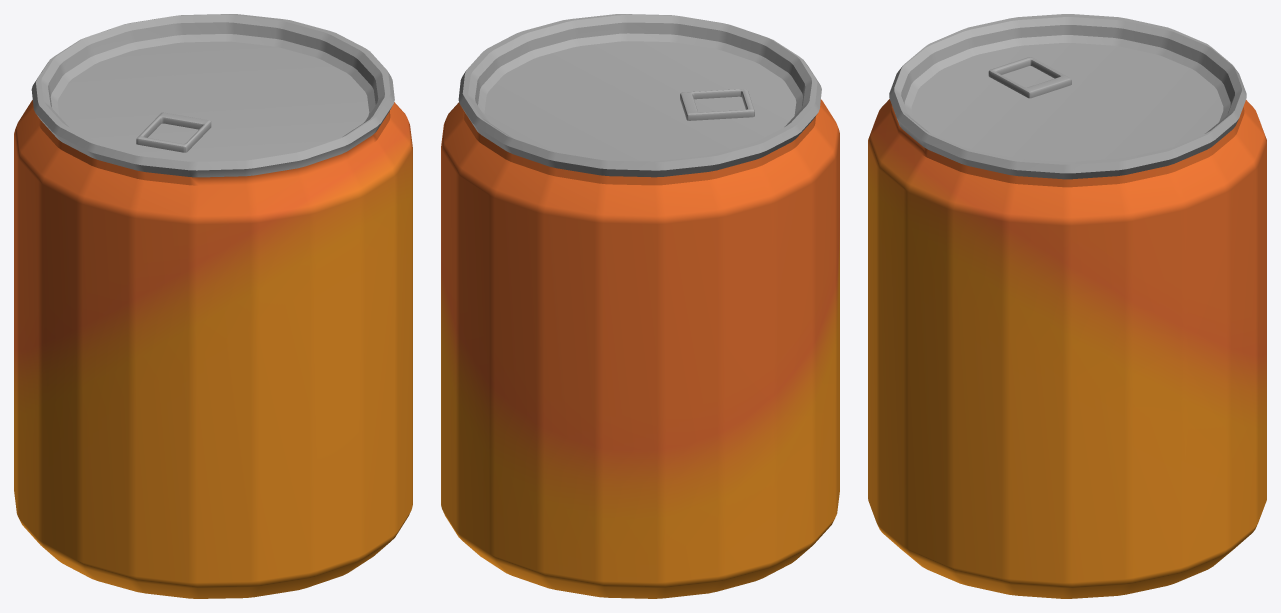
File: Ürün24.fbx
The picture shows the model from 3 angles, left to right: view 1: azimuth 30°, elevation 25°; view 2: azimuth 150°, elevation 25°; view 3: azimuth 270°, elevation 25°; orthographic projection.
Parts seen in each view (by area): view 1: Ürün; view 2: Ürün; view 3: Ürün.
Boxes of the visible parts, box(x1,y1,x2,y2) form: Ürün: box(14, 14, 412, 598); Ürün: box(441, 14, 839, 598); Ürün: box(868, 14, 1266, 598).
Size of the model in its own units: 11.57 by 14.02 by 11.57.
